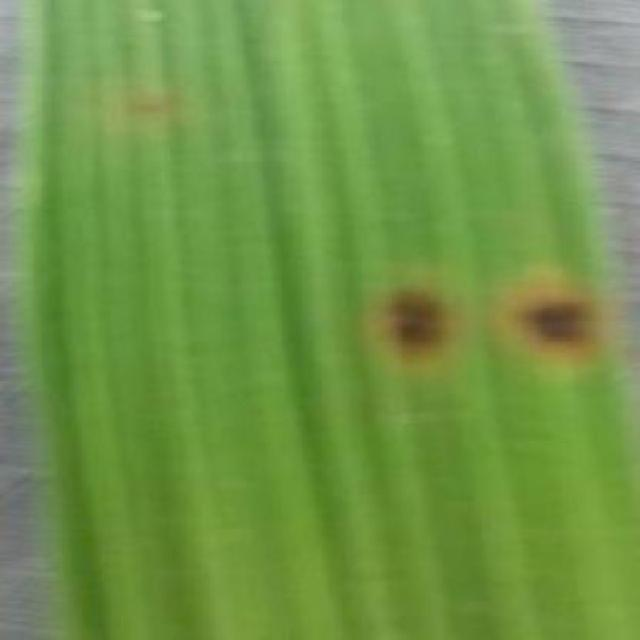Leaf_Blast: (494, 256, 614, 386), (350, 260, 468, 380), (108, 72, 184, 128)
